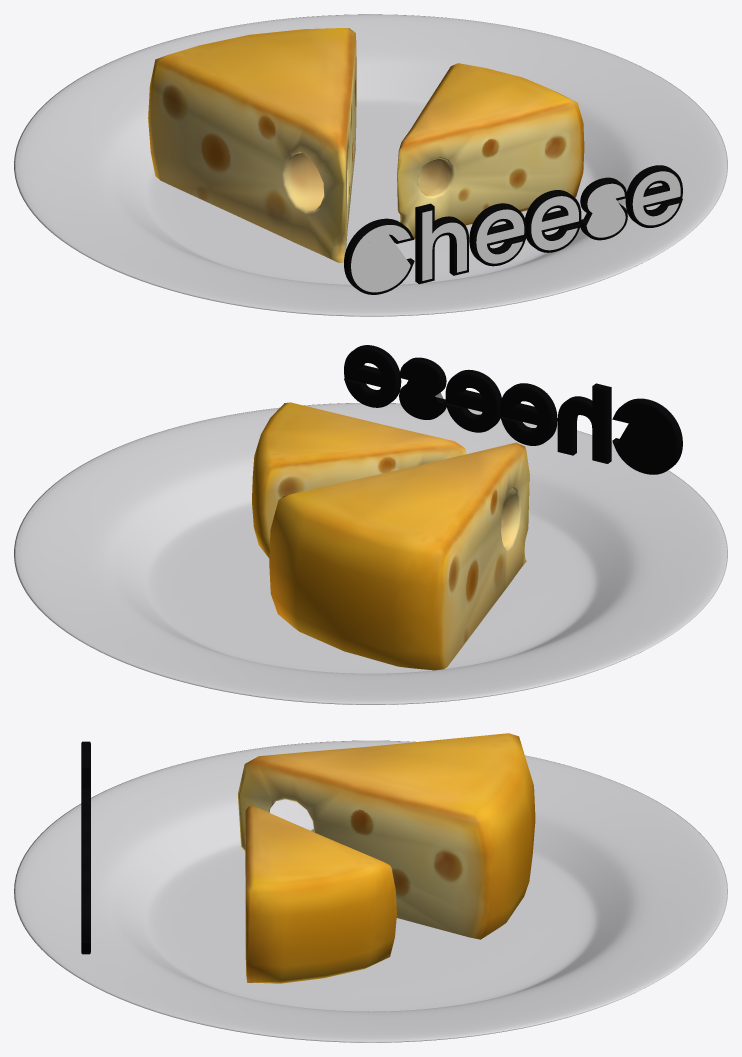
Rendered from Cheese.fbx.
3 views of the same model, one above another, from view 1: azimuth 30°, elevation 25°; view 2: azimuth 150°, elevation 25°; view 3: azimuth 270°, elevation 25° (orthographic).
Visible parts, largest first — view 1: Circle, cheese:Mesh, Mesh1, typeMesh2; view 2: Circle, cheese:Mesh, typeMesh2, Mesh1; view 3: Circle, cheese:Mesh, Mesh1, typeMesh2.
Part boxes in pixels (x1=…): Circle: x1=14, y1=14, x2=727, y2=316; cheese:Mesh: x1=148, y1=28, x2=356, y2=262; Mesh1: x1=397, y1=63, x2=584, y2=238; typeMesh2: x1=344, y1=165, x2=682, y2=294; Circle: x1=14, y1=403, x2=727, y2=704; cheese:Mesh: x1=269, y1=442, x2=529, y2=670; typeMesh2: x1=344, y1=345, x2=682, y2=474; Mesh1: x1=252, y1=402, x2=466, y2=558; Circle: x1=14, y1=740, x2=727, y2=1042; cheese:Mesh: x1=238, y1=733, x2=535, y2=939; Mesh1: x1=245, y1=805, x2=396, y2=983; typeMesh2: x1=81, y1=741, x2=90, y2=954.
Size of the model in its own units: 313 by 66.02 by 313.
Materials: 4 (1 with a texture image).
